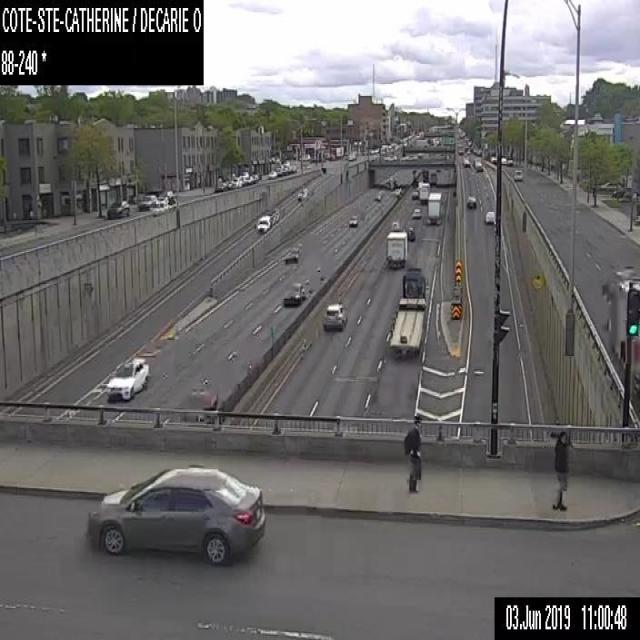pedestrian: (549, 429, 572, 511), (402, 413, 423, 494), (592, 183, 596, 205)
vehicle: (85, 465, 266, 568), (601, 266, 639, 375), (385, 267, 428, 356), (106, 356, 148, 401), (385, 231, 406, 268), (322, 303, 348, 329), (282, 280, 304, 307), (256, 209, 280, 232), (426, 191, 442, 224), (106, 199, 130, 217), (137, 193, 156, 210), (158, 190, 174, 206), (419, 182, 429, 204), (289, 245, 299, 263), (296, 187, 309, 200), (402, 226, 414, 240), (231, 176, 242, 187), (466, 196, 476, 208), (513, 169, 523, 180), (215, 181, 226, 191), (374, 190, 384, 201), (485, 210, 494, 222), (348, 215, 357, 226), (412, 207, 421, 218), (392, 220, 399, 232), (474, 162, 483, 171), (244, 175, 253, 184), (282, 165, 290, 175), (384, 154, 396, 160), (275, 166, 282, 176), (411, 189, 418, 199), (268, 170, 276, 178), (251, 173, 258, 182), (506, 158, 514, 165), (463, 159, 470, 166), (290, 164, 296, 172), (348, 154, 355, 160), (501, 157, 506, 164)
